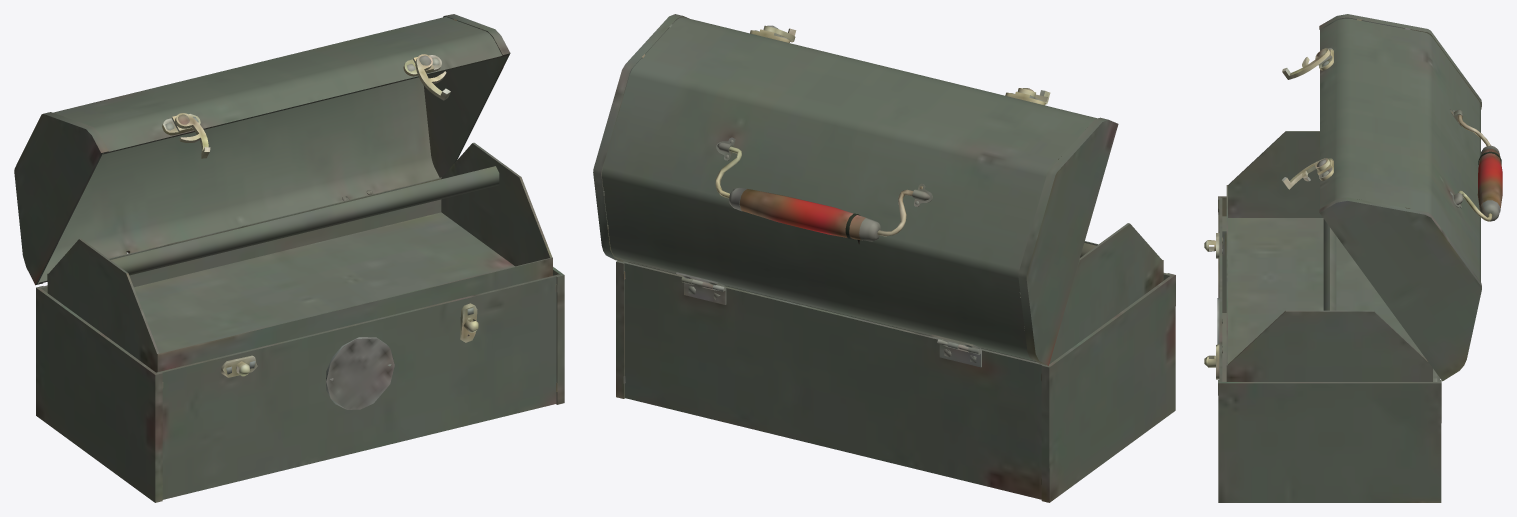
The model's file is metal_toolbox.glb.
The picture shows the model from 3 angles, left to right: view 1: azimuth 30°, elevation 25°; view 2: azimuth 150°, elevation 25°; view 3: azimuth 270°, elevation 25°; orthographic projection. The views are drawn at different scales.
Parts seen in each view (by area): view 1: Cylinder.015, metal_toolbox, metal_toolbox_tray, metal_toolbox_handle_latch_r, metal_toolbox_handle_latch_l; view 2: Cylinder.015, metal_toolbox, metal_toolbox_tray, metal_toolbox_handle; view 3: Cylinder.015, metal_toolbox_tray, metal_toolbox, metal_toolbox_handle, metal_toolbox_handle_latch_l, metal_toolbox_handle_latch_r.
Part boxes in pixels (<box>): Cylinder.015: <box>14,14,510,285</box>; metal_toolbox: <box>36,267,564,502</box>; metal_toolbox_tray: <box>47,142,552,372</box>; metal_toolbox_handle_latch_r: <box>415,54,450,100</box>; metal_toolbox_handle_latch_l: <box>175,113,210,158</box>; Cylinder.015: <box>593,14,1118,365</box>; metal_toolbox: <box>616,260,1175,502</box>; metal_toolbox_tray: <box>628,223,1163,363</box>; metal_toolbox_handle: <box>715,146,913,244</box>; Cylinder.015: <box>1317,14,1481,381</box>; metal_toolbox_tray: <box>1226,131,1432,381</box>; metal_toolbox: <box>1204,196,1441,502</box>; metal_toolbox_handle: <box>1457,115,1502,221</box>; metal_toolbox_handle_latch_l: <box>1282,48,1330,79</box>; metal_toolbox_handle_latch_r: <box>1282,158,1330,189</box>.
Bounding box in the file's own units: 0.4 × 0.3047 × 0.2699.
1 material, 1 textured.
